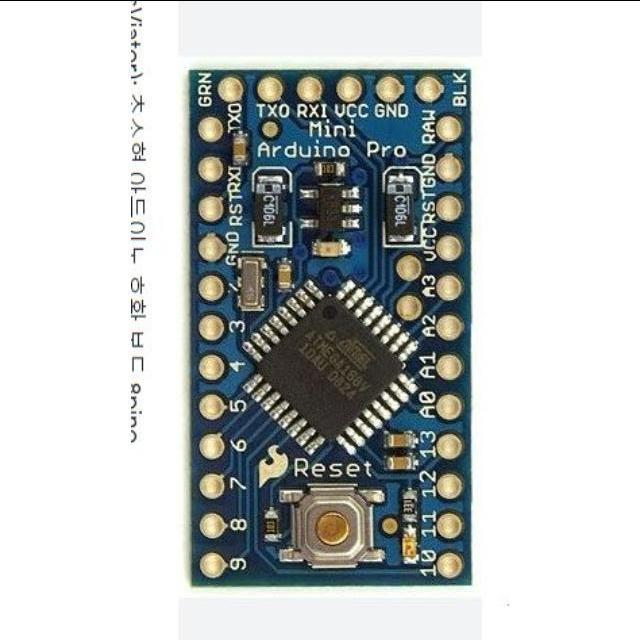Arduino-ProMini: (191, 70, 471, 586)
